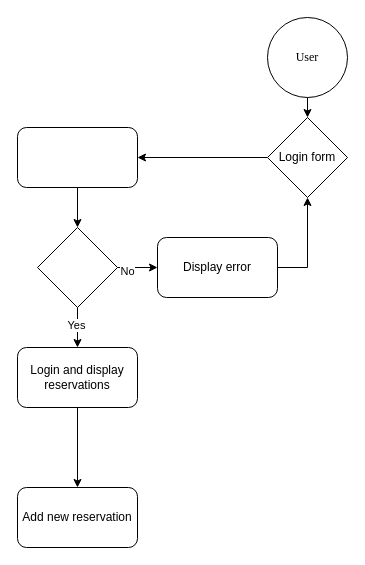
Some shapes in this 365 by 565 pixel diagram are drawn without their labels. Here are the shapes that lost their labels. From the top down, the centre of each, then its label:
At pixel 77 157: "Receptionist".
At pixel 77 267: "Correct login info".
